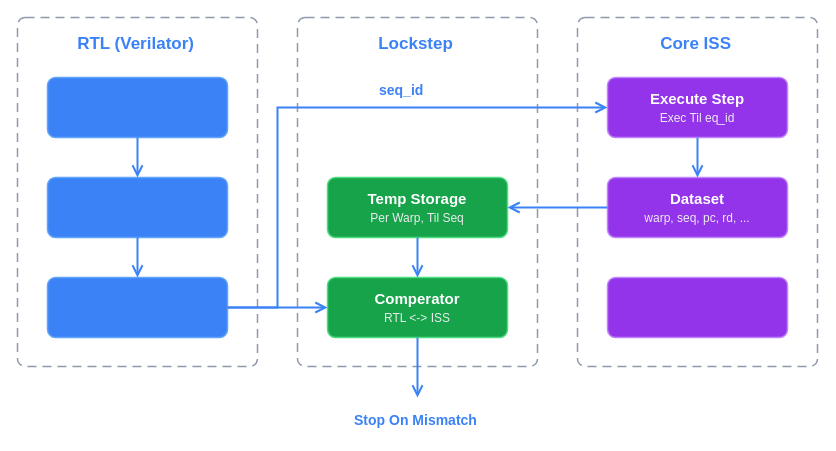
Image size: 836x451. Some labels were removed from this diagram. The centre of each missing label's shape, as x and y in pixels:
Commit warp, seq, pc, rd, ...: the point at 137,307
Issue Set seq_id: the point at 137,107
Pipeline Shuffel Instr Through Latency: the point at 137,207
State GPR, Warp, ...: the point at 697,307
